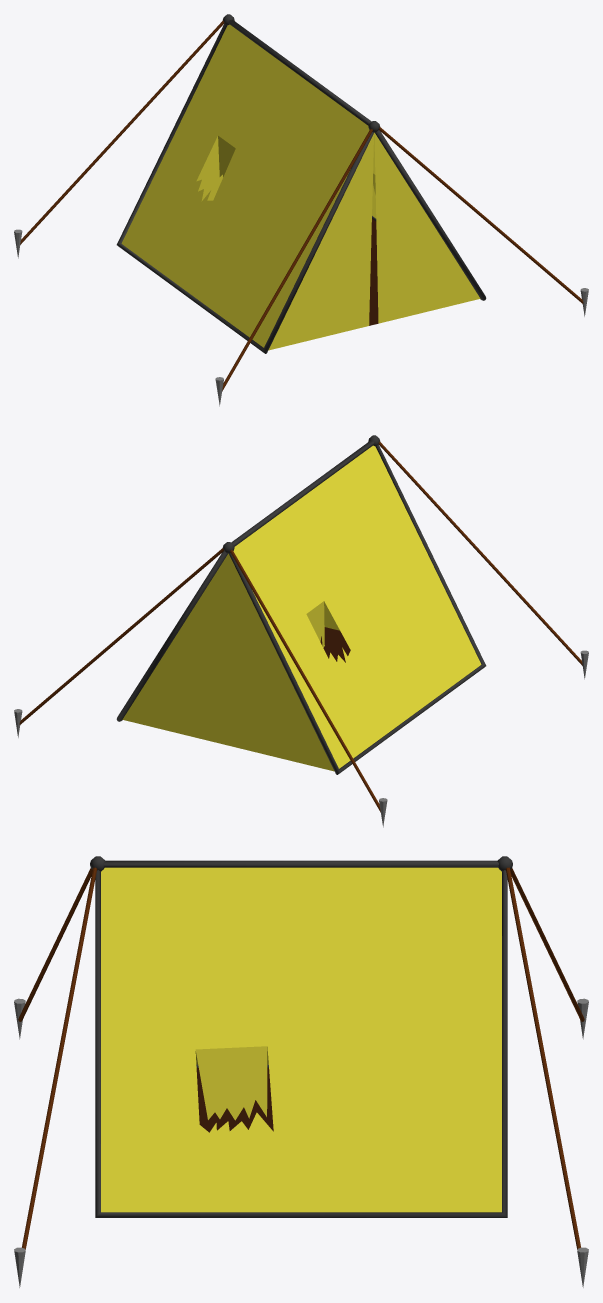
Rendered from tent.fbx.
3 views of the same model, one above another, from view 1: azimuth 30°, elevation 25°; view 2: azimuth 150°, elevation 25°; view 3: azimuth 270°, elevation 25° (orthographic). The views are drawn at different scales.
Parts seen in each view (by area): view 1: Cylinder, Cylinder.001, Cylinder.002; view 2: Cylinder, Cylinder.001, Cylinder.002; view 3: Cylinder, Cylinder.001, Cylinder.002.
Boxes of the visible parts, <box> form: Cylinder: <box>121,24,480,350</box>; Cylinder.001: <box>116,19,486,353</box>; Cylinder.002: <box>14,21,588,406</box>; Cylinder: <box>122,445,481,771</box>; Cylinder.001: <box>116,440,486,774</box>; Cylinder.002: <box>14,442,588,827</box>; Cylinder: <box>101,867,501,1212</box>; Cylinder.001: <box>95,860,507,1217</box>; Cylinder.002: <box>14,867,588,1287</box>.
Bounding box in the file's own units: 295 × 167 × 283.
